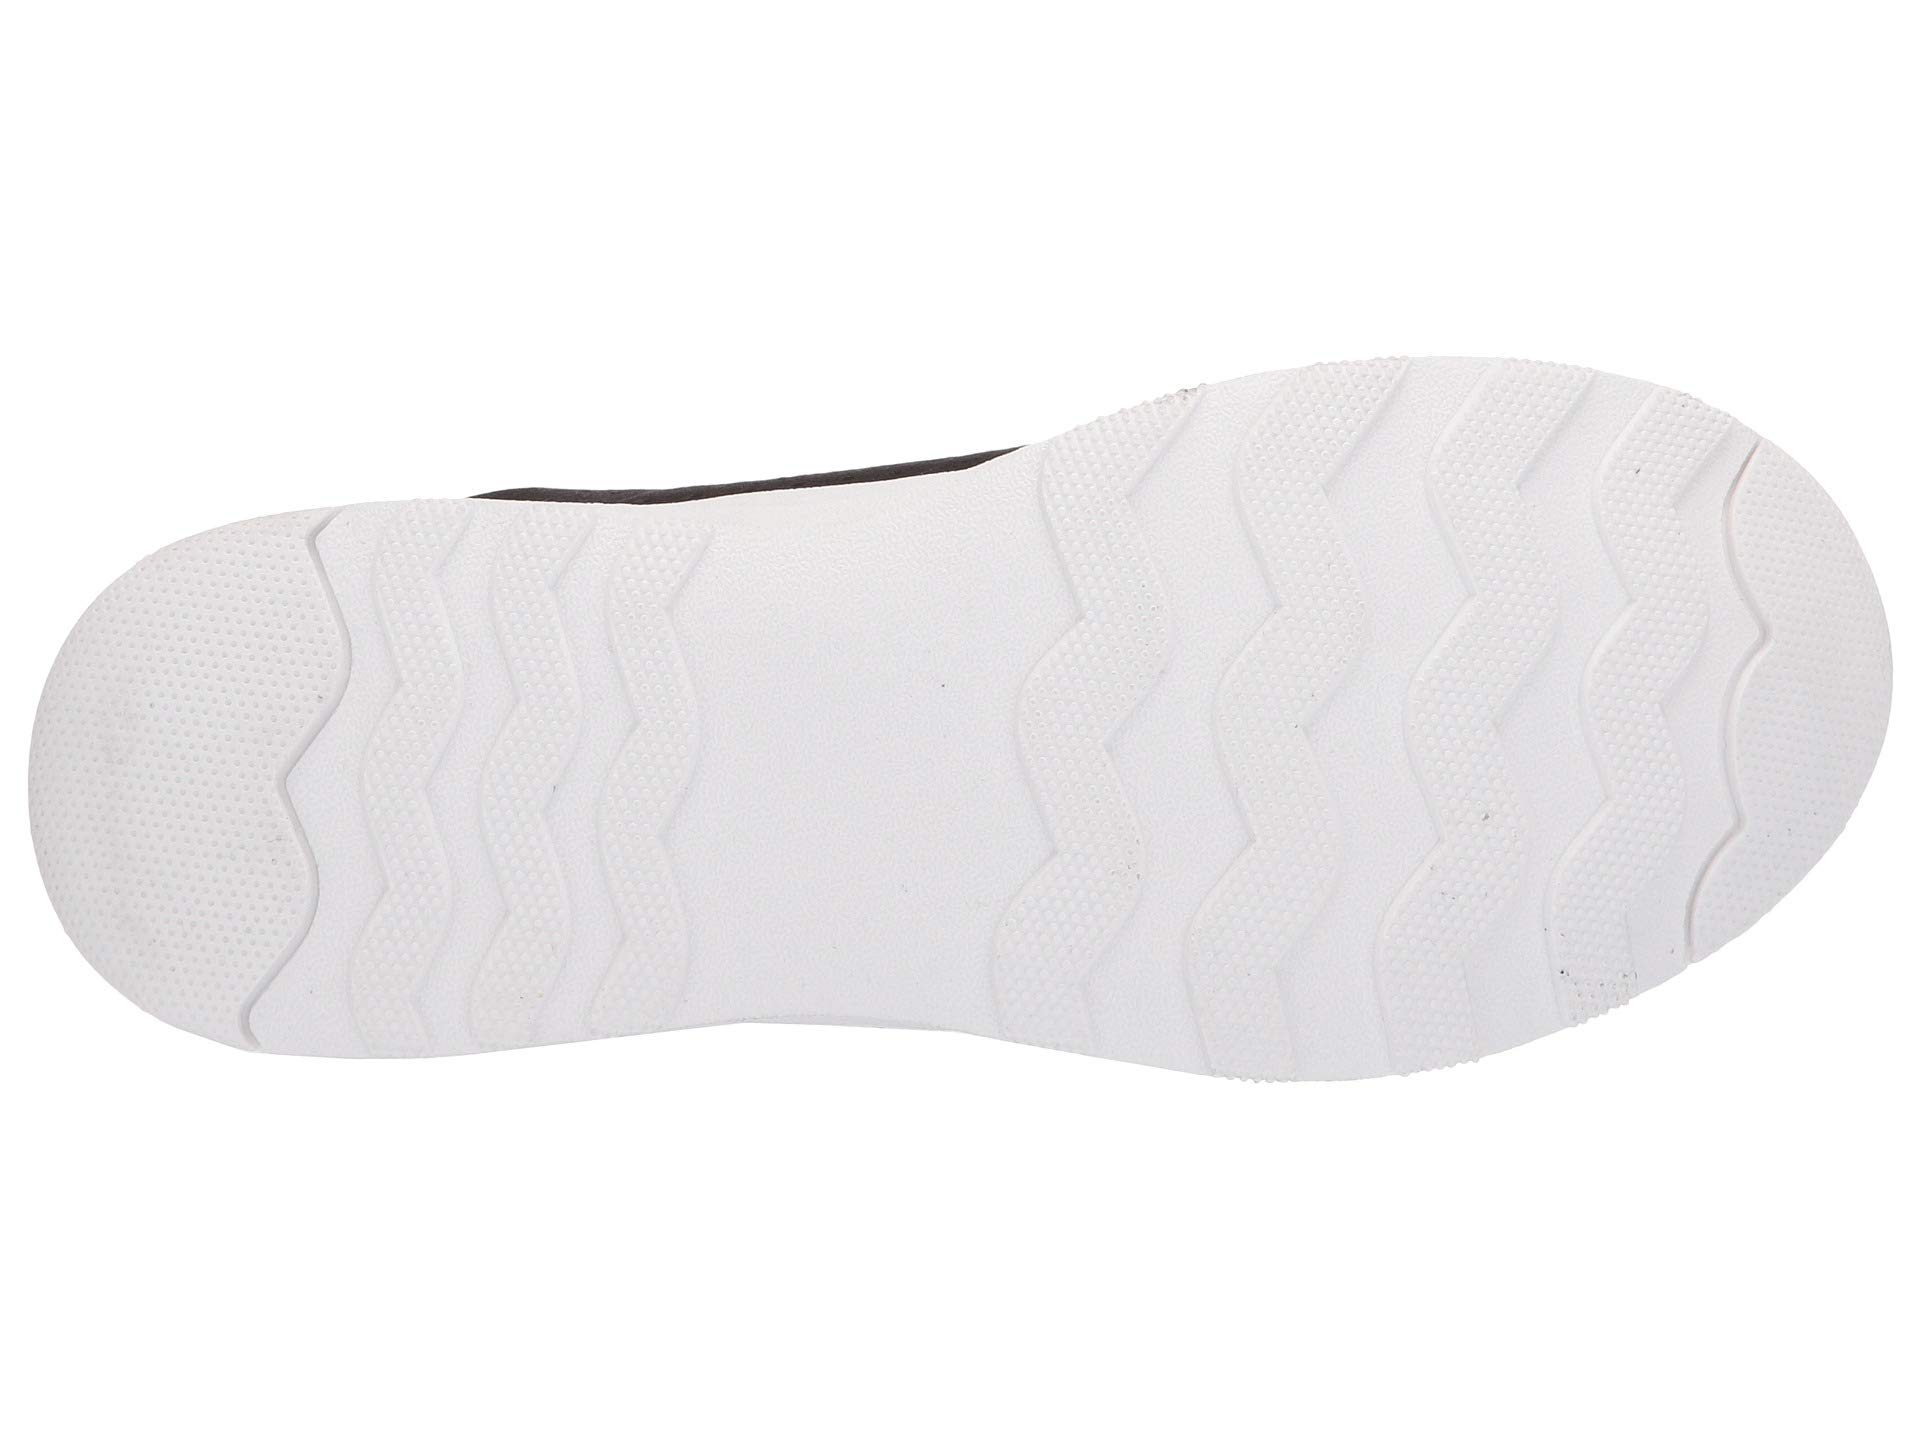chevron: (969, 445, 1596, 1001), (321, 608, 726, 983)
